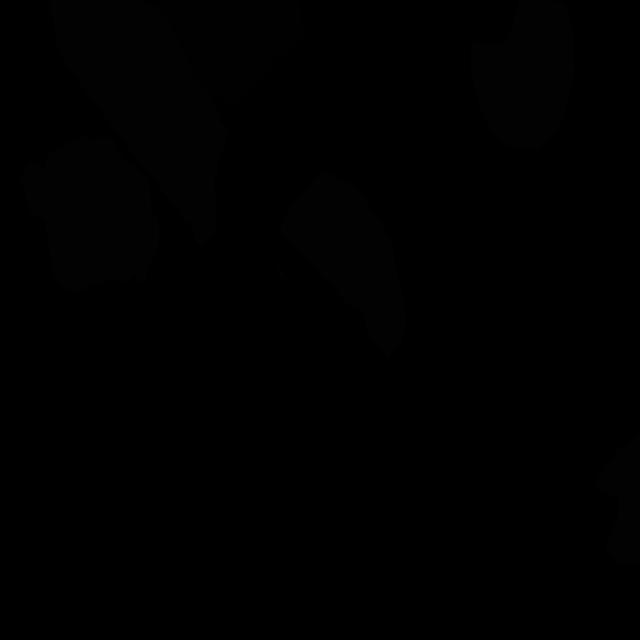cardboard: (48, 0, 228, 246), (280, 171, 406, 358), (20, 135, 159, 293), (471, 0, 574, 150), (593, 432, 640, 566), (276, 265, 289, 281)
rigid_plastic: (158, 0, 303, 108)
